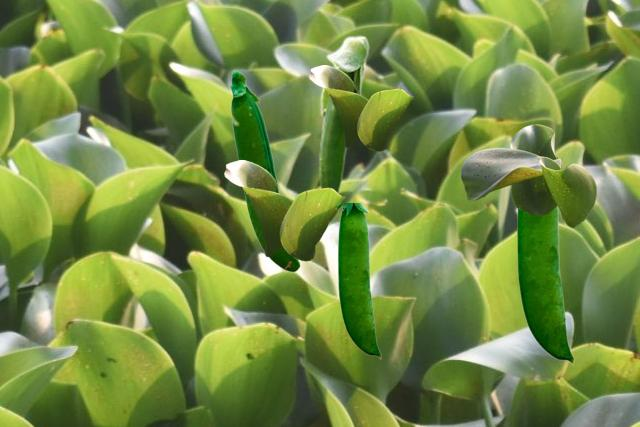pea: (229, 69, 299, 271), (517, 207, 573, 364), (318, 35, 369, 194), (338, 203, 380, 358)
